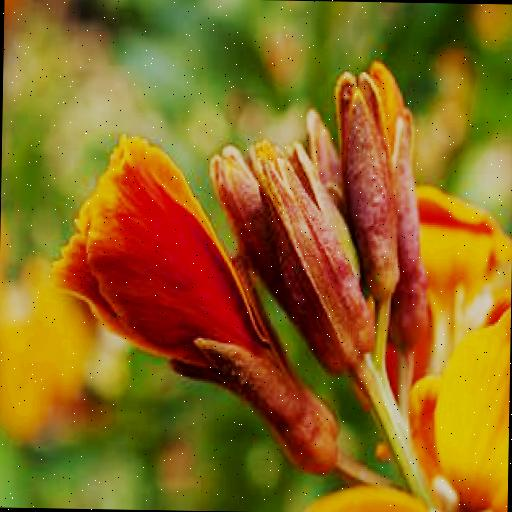tulip: (38, 133, 348, 471), (210, 110, 378, 377), (329, 59, 426, 306)
